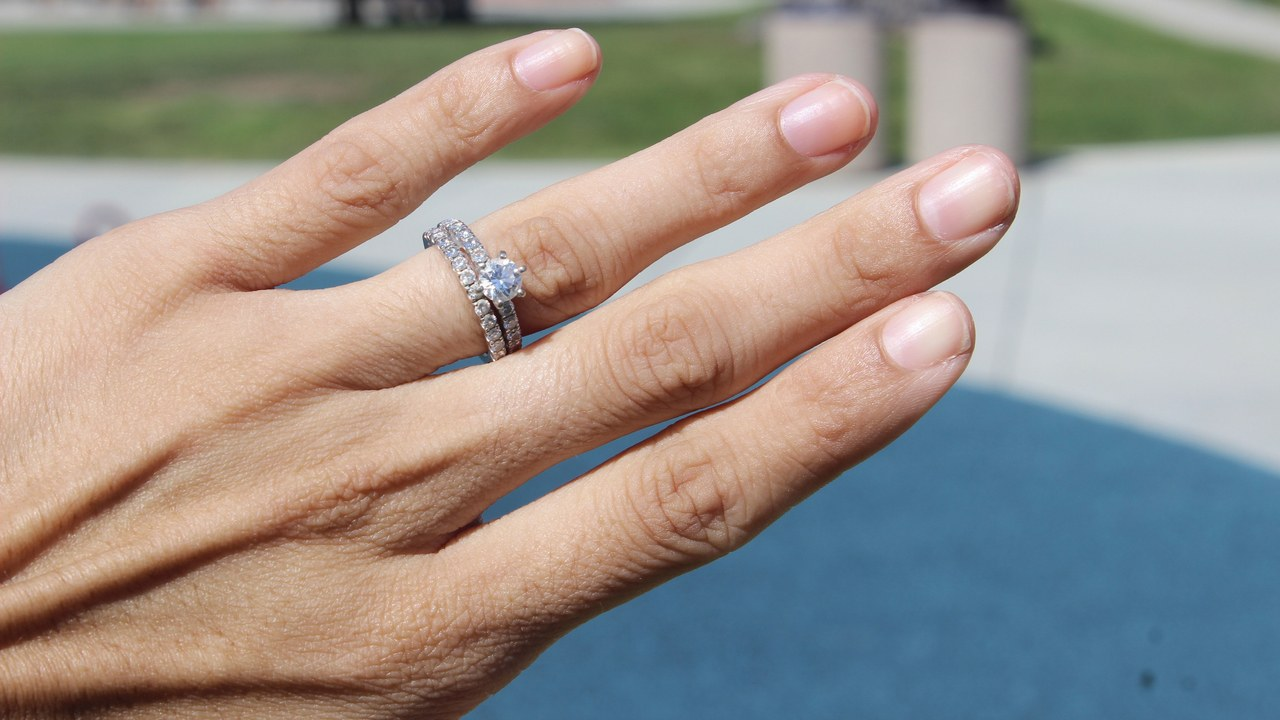finger: (394, 139, 1035, 531), (425, 283, 1030, 683), (309, 51, 886, 385), (218, 14, 586, 302)
